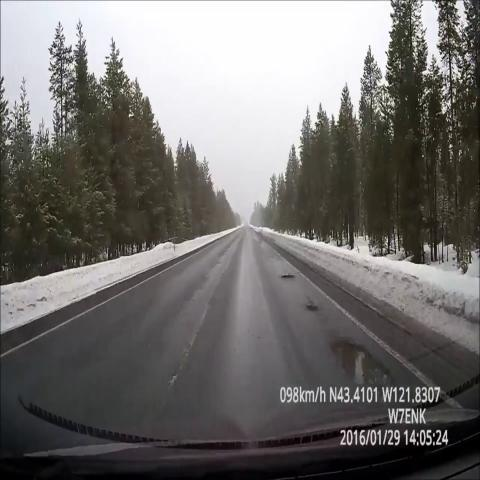pothole: (323, 329, 404, 407), (274, 256, 304, 292), (299, 296, 325, 318)
